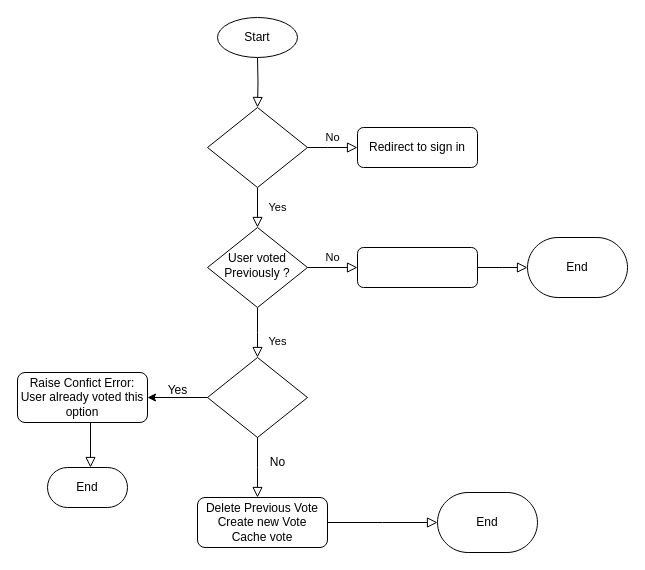
This 645x570 diagram has some shape labels left out. Here are the shapes that lost their labels. From the top down, the centre of each, then its label:
the point at 257,147: User signed in ?
the point at 417,267: Record Vote Cache Vote
the point at 257,397: User voted same option ?
